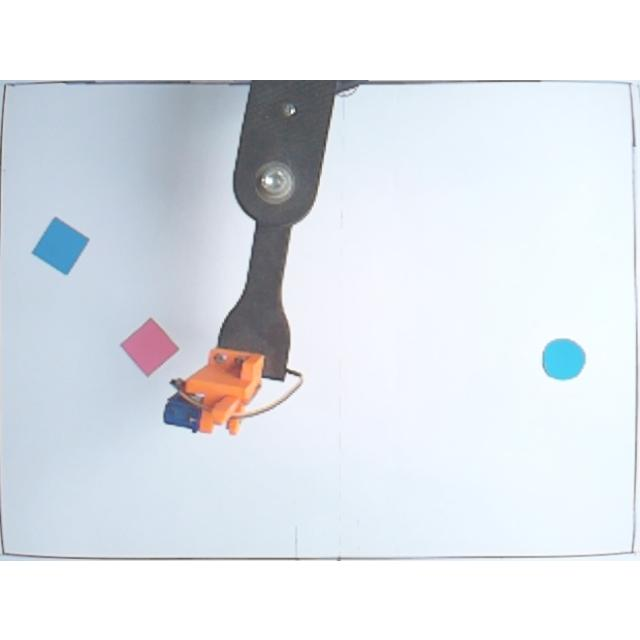blueCircle: (540, 334, 586, 382)
blueSquare: (31, 212, 90, 274)
pinkSquare: (119, 315, 181, 377)
